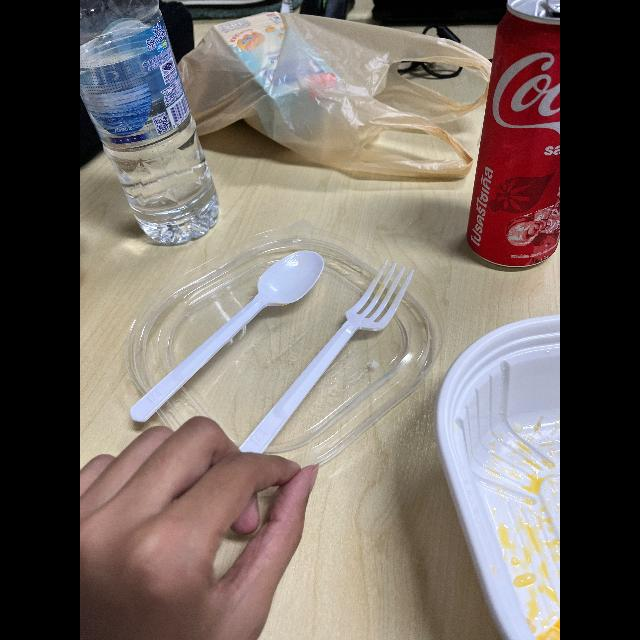plastic_cultery: (232, 254, 418, 472), (128, 247, 336, 426)
